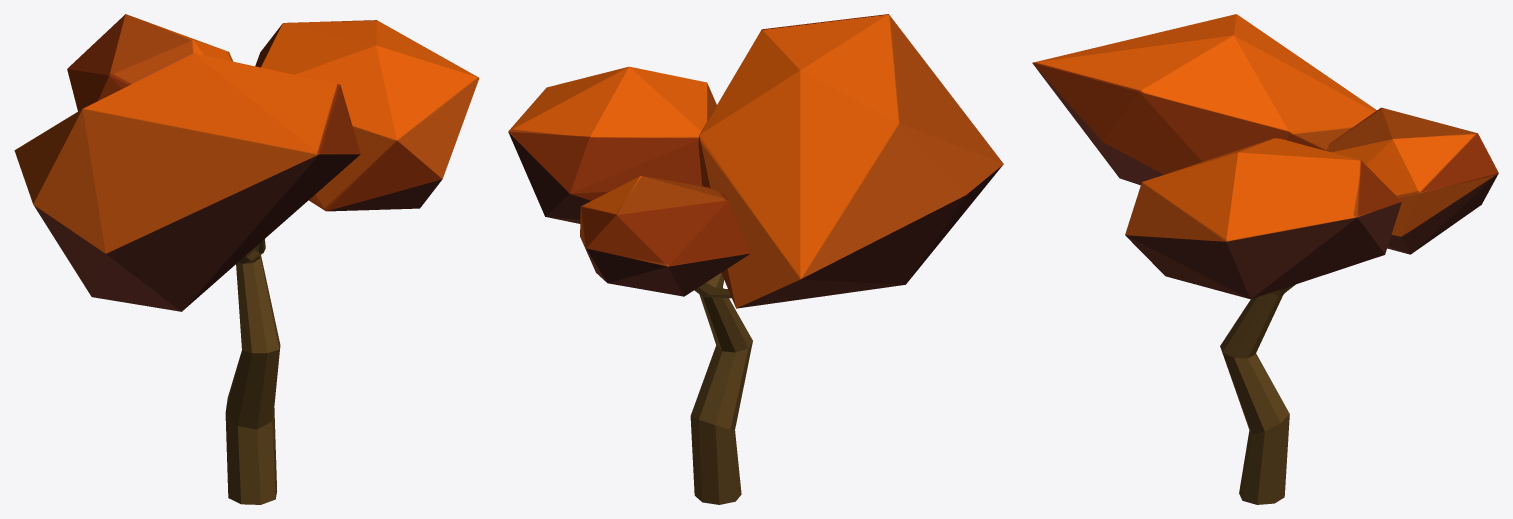
Rendered from Tree04.fbx.
3 renders of one model, left to right at view 1: azimuth 30°, elevation 25°; view 2: azimuth 150°, elevation 25°; view 3: azimuth 270°, elevation 25°, orthographic. The views are drawn at different scales.
Parts seen in each view (by area): view 1: Circle.005; view 2: Circle.005; view 3: Circle.005.
Boxes of the visible parts, x1,y1,x2,y2 form: Circle.005: (14,14,479,504); Circle.005: (508,14,1003,504); Circle.005: (1032,14,1498,504).
Size of the model in its own units: 117 by 116 by 115.
